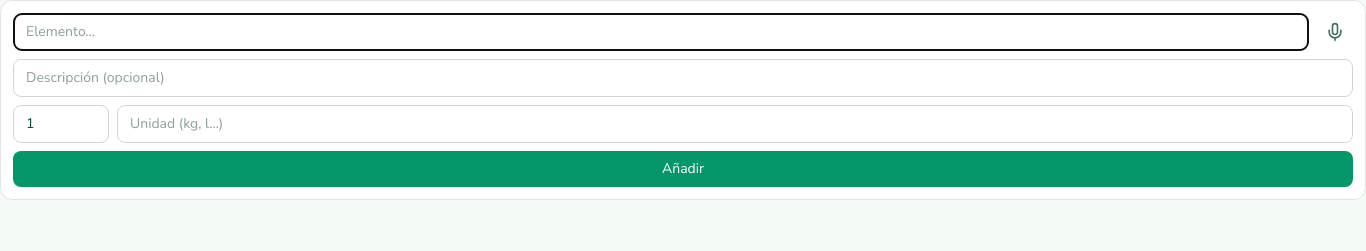
Test case: AddItemForm › agrega el elemento, resetea los campos y permanece abierto
This screenshot has width=1366, height=251.
Type "Leche" into the field named "Nombre del elemento". click: (661, 32)
box: [13,13,1309,51]
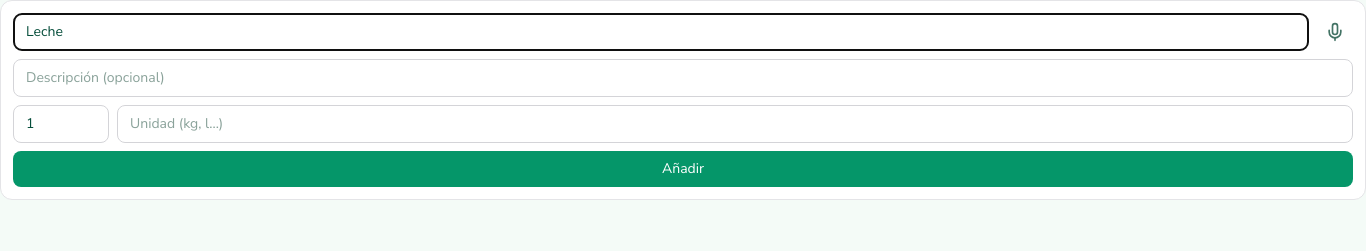
Type "Deslactosada" into the field labelled "Descripción (opcional)". click: (683, 78)
box: [13,59,1353,97]
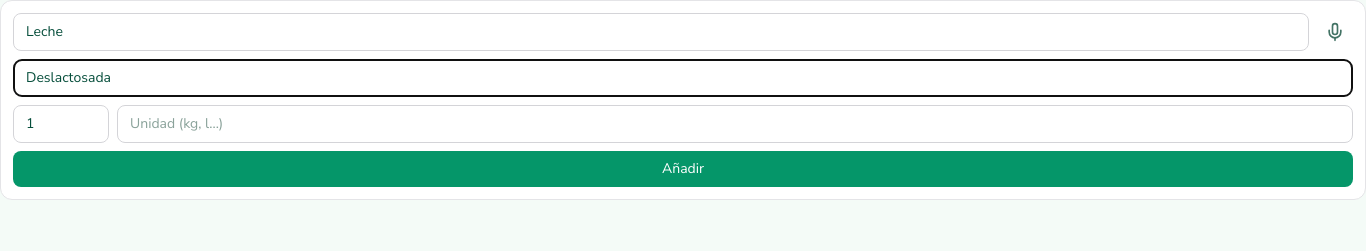
Replace the text in the number field named "Cantidad" with "3". click: (61, 124)
box: [13,105,109,143]
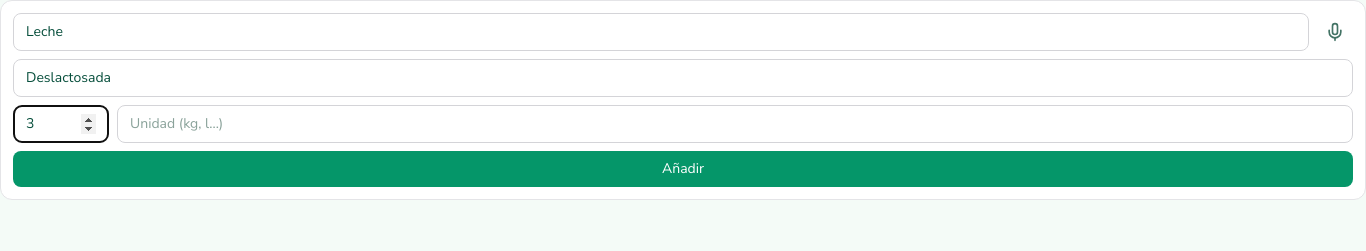
Type "l" into the field named "Unidad (opcional)". click: (735, 124)
box: [117,105,1353,143]
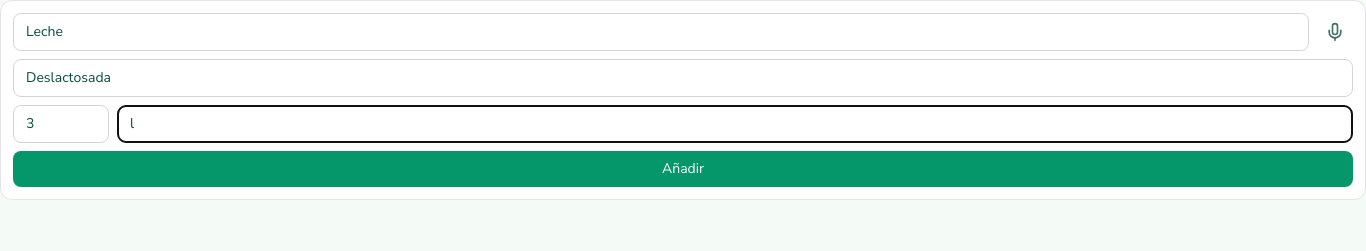
Click the button "Añadir". click: (683, 169)
box: [13,151,1353,187]
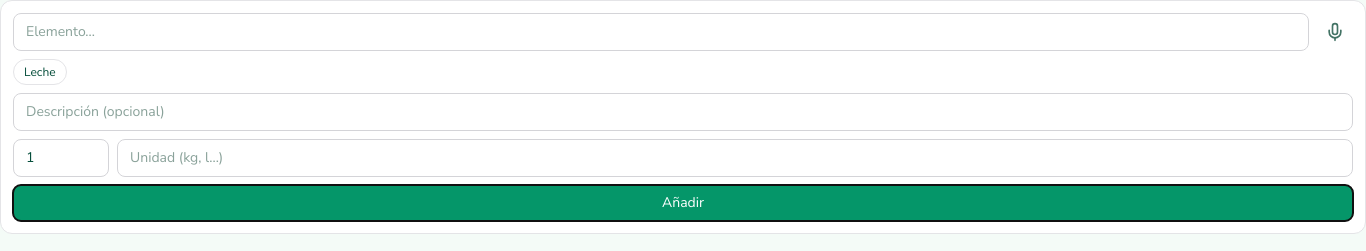
Expected: the field named "Nombre del elemento" is empty, [13,13,1309,51]
Expected: the number field named "Cantidad" holds "1", [13,139,109,177]
